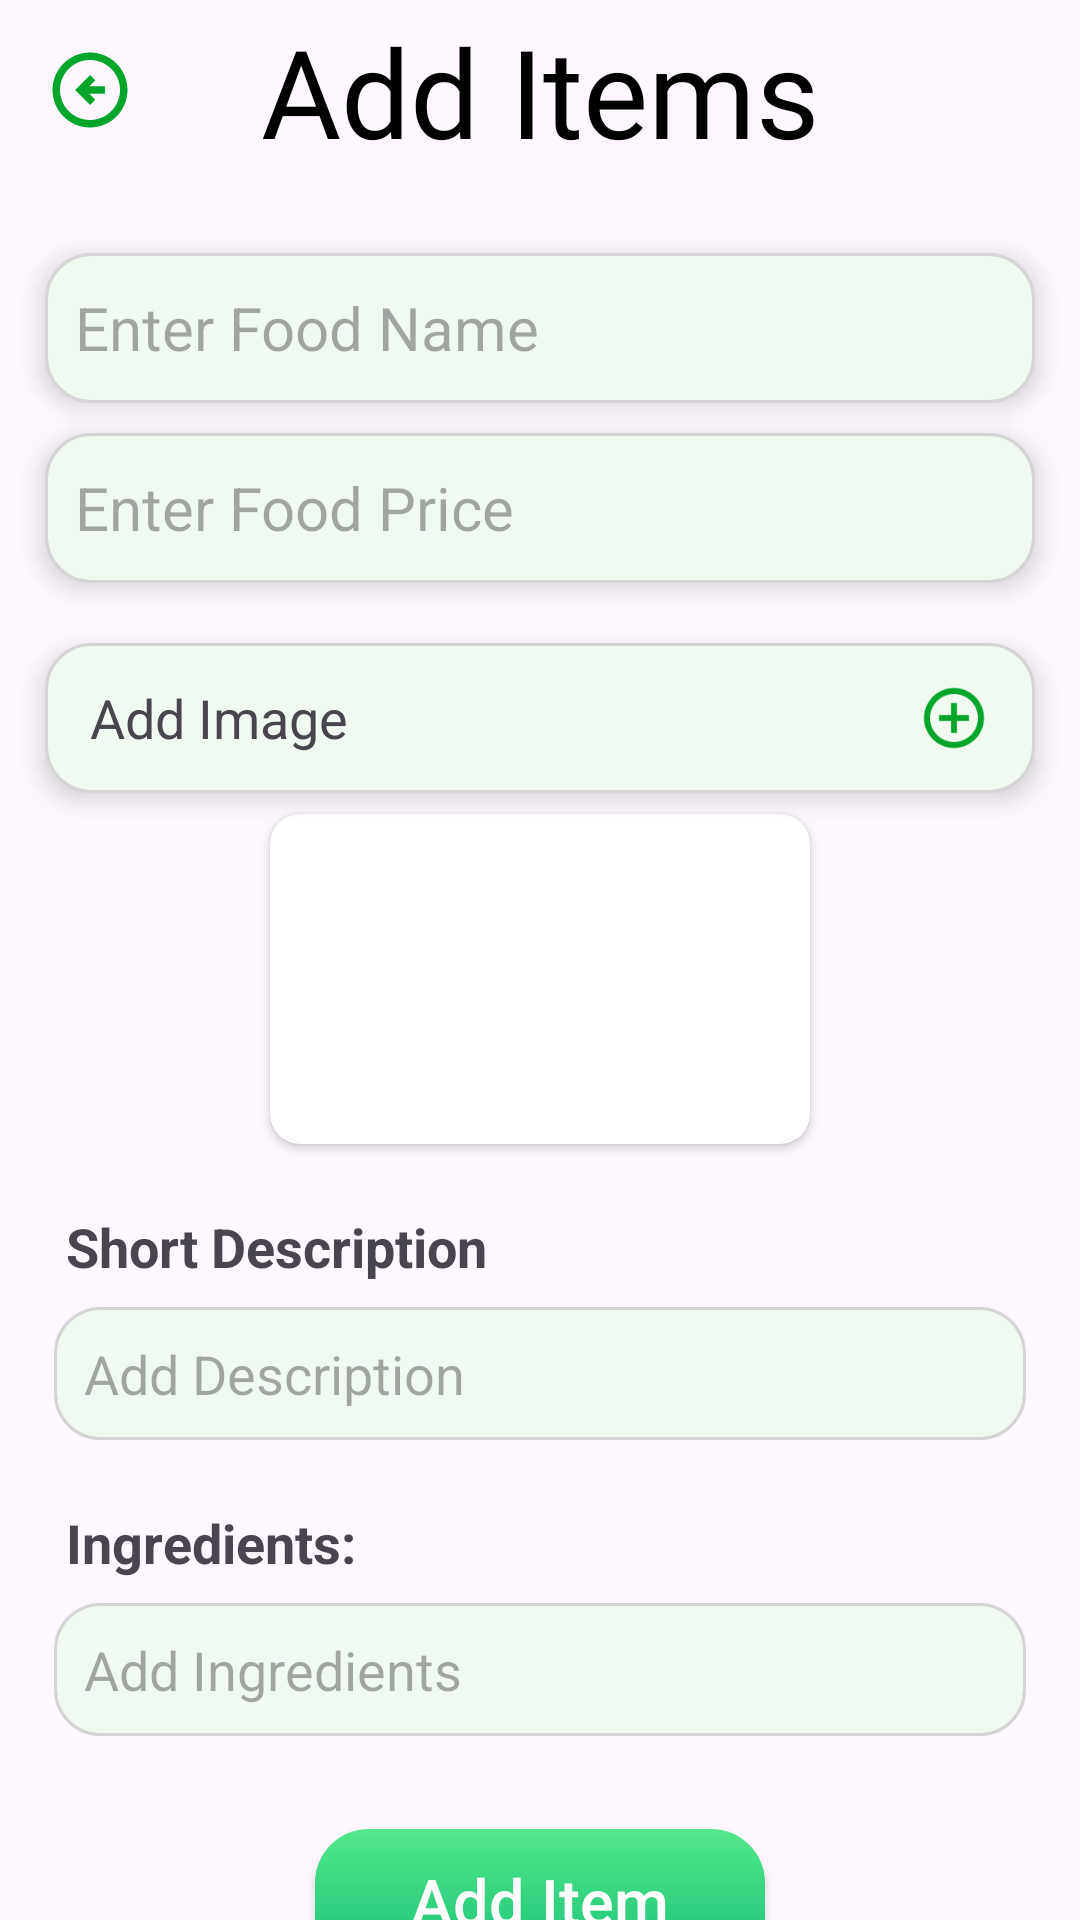

Icon click points for this 1080px×1920px phone screenshot, format (x=x, y=y):
arrow left: (x=90, y=90)
